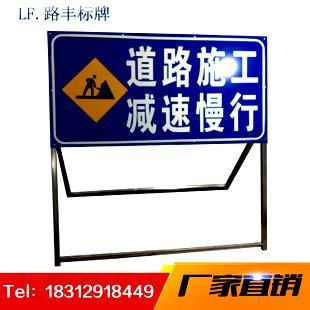sign: (47, 30, 273, 144)
